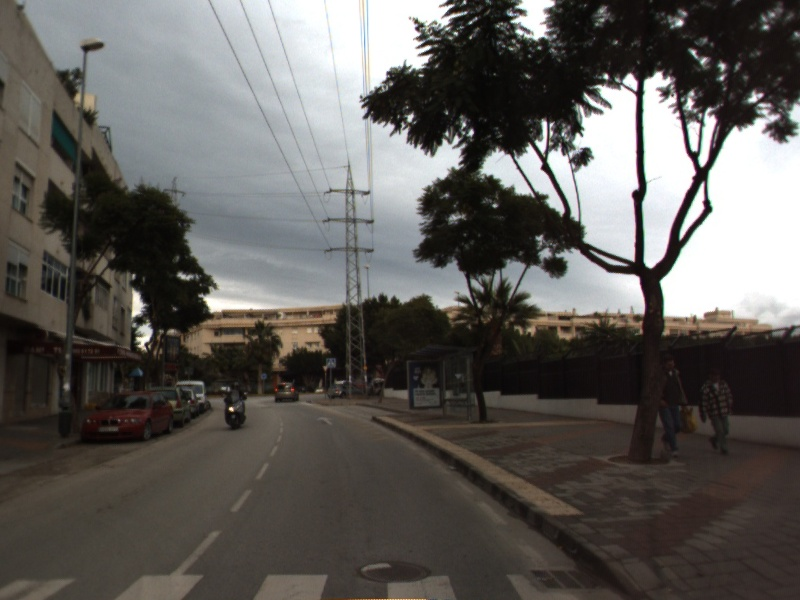STRAIGHT: (314, 414, 336, 427)
